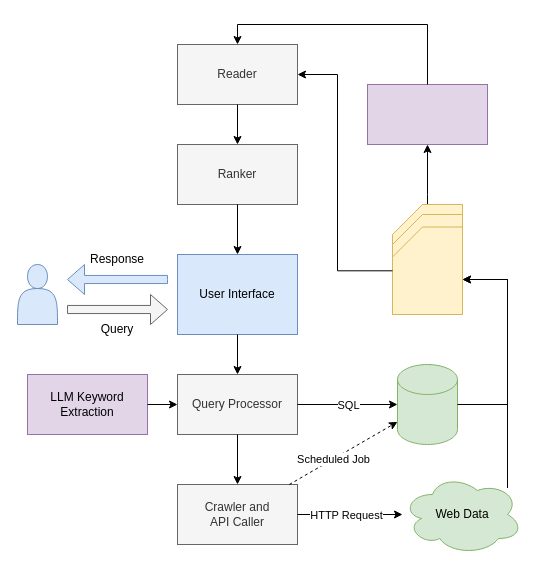
Image size: 540x572. Some labels were removed from this diagram. Each missing label, with the centre of its shape:
Database: point 427,404
Documents: point 427,270
Recommendation Model: point 427,114
